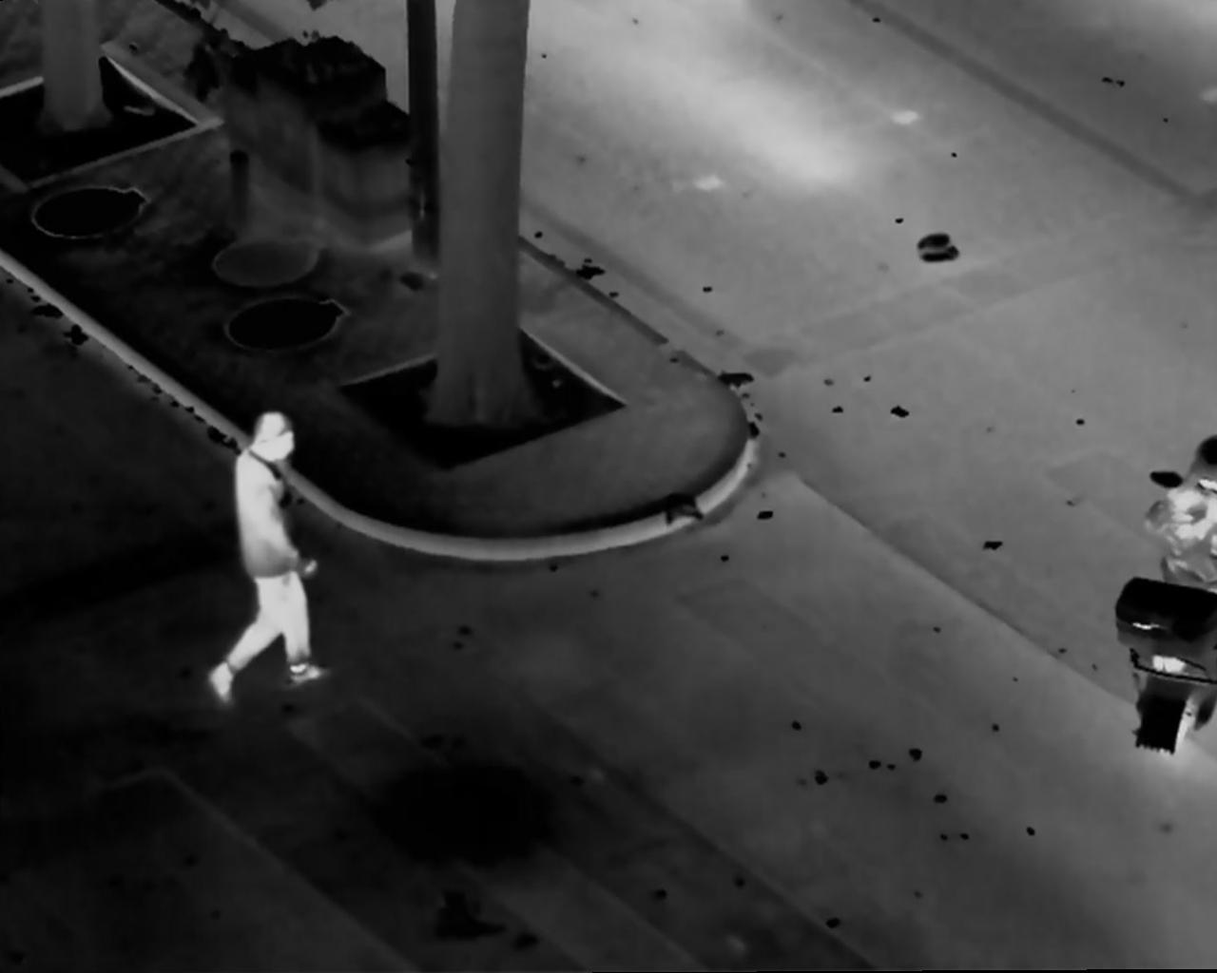person: (198, 404, 327, 686), (1146, 433, 1217, 593)
